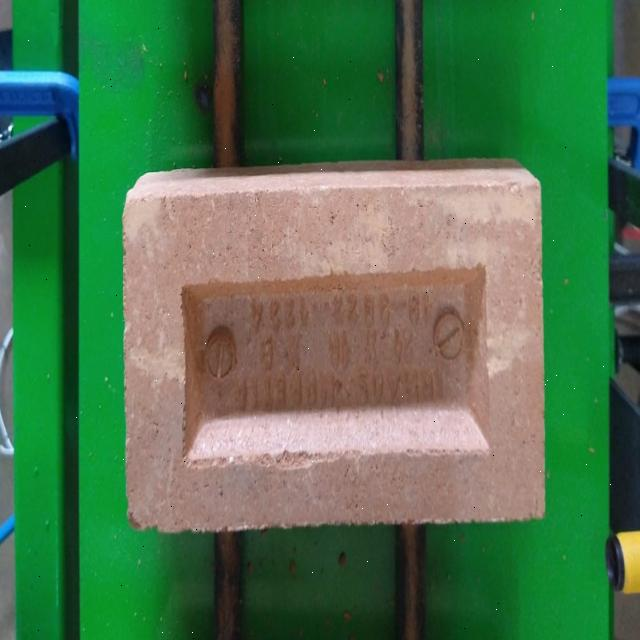bricks: (125, 157, 545, 531)
